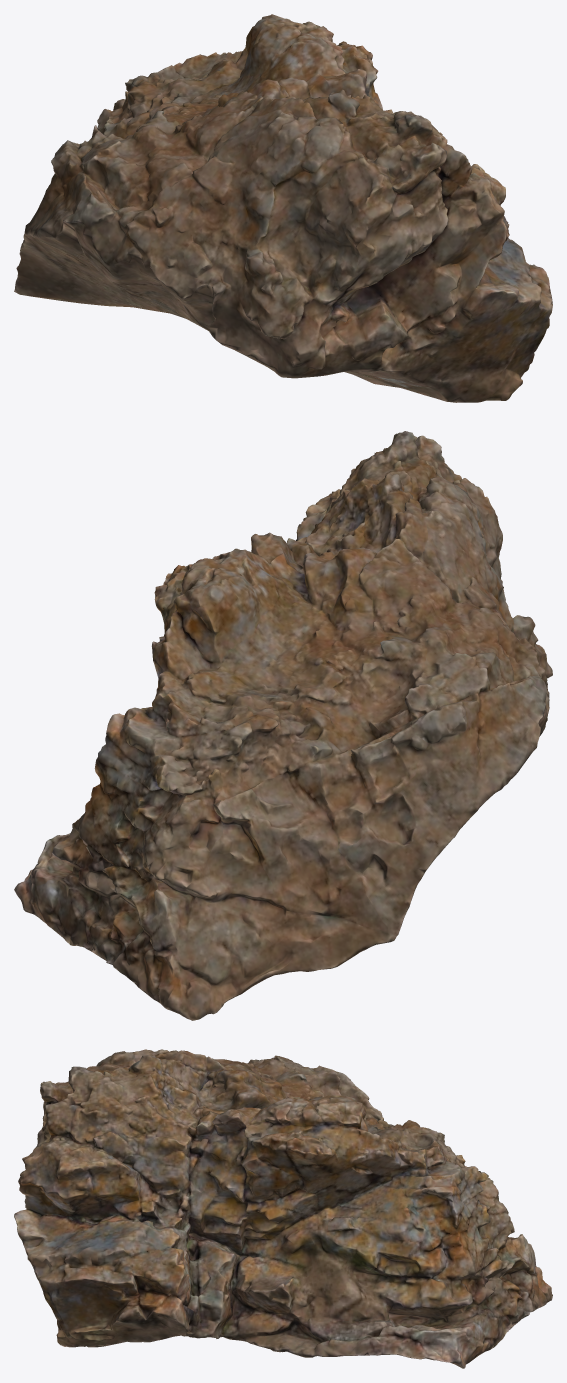
The model's file is boulder_01.glb.
The picture shows the model from 3 angles, top to bottom: view 1: azimuth 30°, elevation 25°; view 2: azimuth 150°, elevation 25°; view 3: azimuth 270°, elevation 25°; orthographic projection. The views are drawn at different scales.
Visible parts, largest first — view 1: boulder_01; view 2: boulder_01; view 3: boulder_01.
Boxes of the visible parts, bbox=[...] form: boulder_01: bbox=[14, 14, 552, 402]; boulder_01: bbox=[14, 431, 552, 1020]; boulder_01: bbox=[14, 1049, 552, 1368].
Size of the model in its own units: 1.27 by 1 by 1.83.
1 material, 1 textured.
